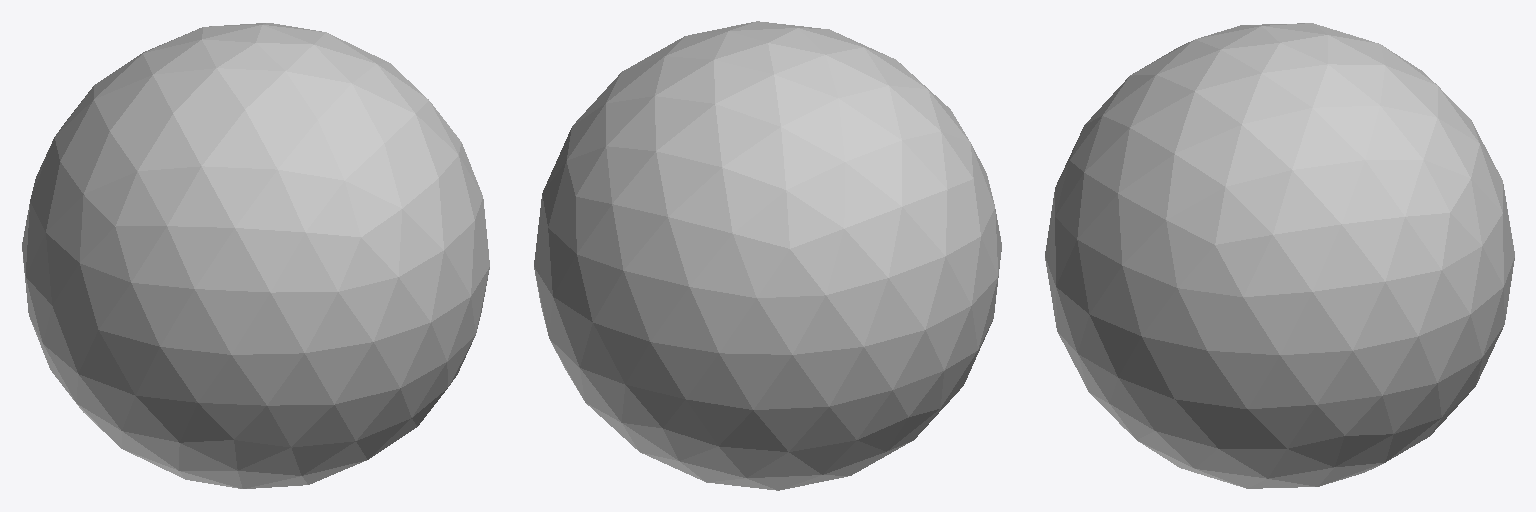
File: s-light.obj
The picture shows the model from 3 angles: view 1: azimuth 30°, elevation 25°; view 2: azimuth 150°, elevation 25°; view 3: azimuth 270°, elevation 25°; orthographic projection.
Size of the model in its own units: 1 by 1 by 1.